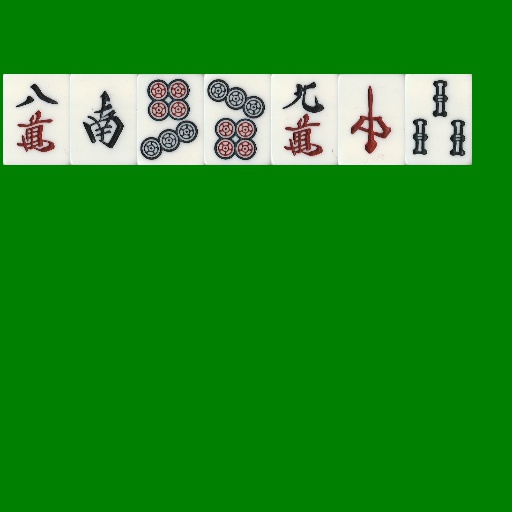3s: (405, 74, 472, 165)
7p: (137, 74, 204, 165), (204, 74, 271, 165)
8m: (3, 74, 70, 165)
9m: (271, 74, 338, 165)
south: (70, 74, 137, 165)
tyun: (338, 74, 405, 165)
